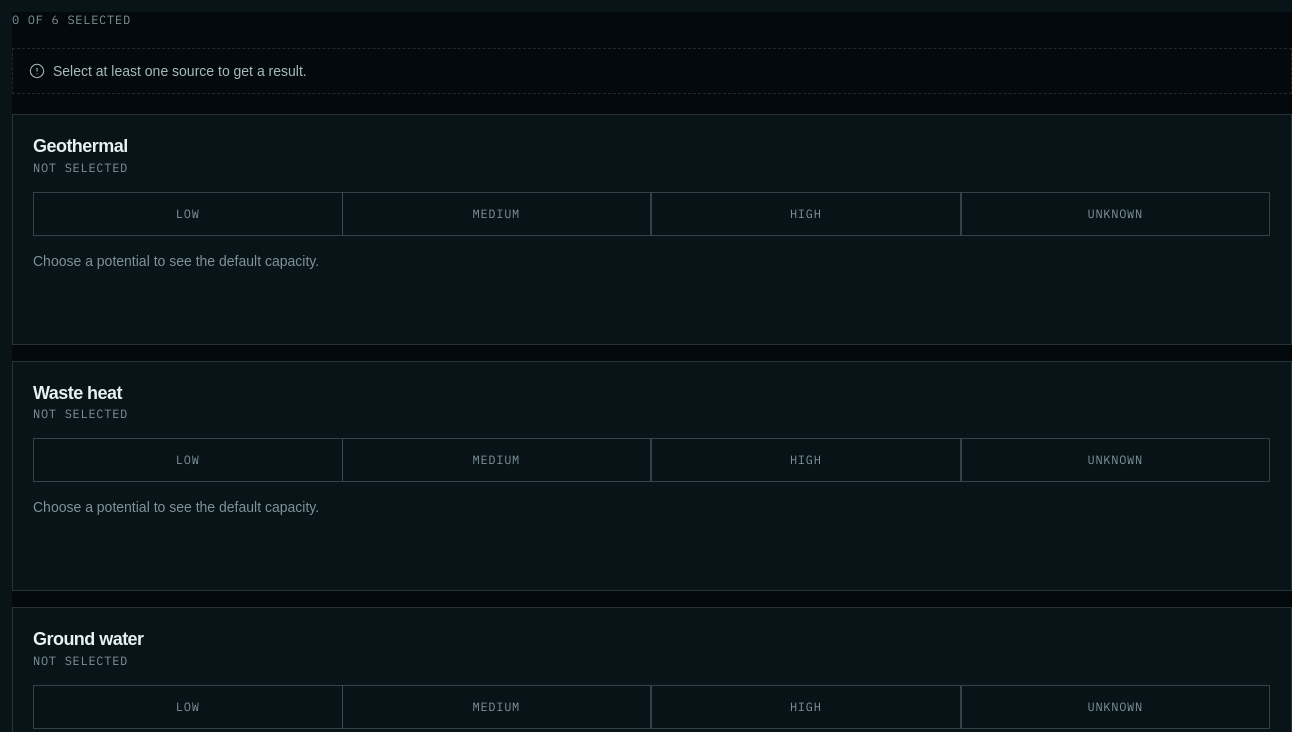
it: SourcesStep (QCT-IN-06/07) › selects a source by its potential and shows the default capacity
This screenshot has width=1292, height=732.
Check: the text "Select at least one source to get a result." is shown, box [12, 48, 1291, 94]
Check: the text "0 of 6 selected" is shown, box [12, 12, 131, 28]
Click the radio button labelled "Medium" below "Geothermal".
click(496, 214)  # box [342, 192, 651, 236]
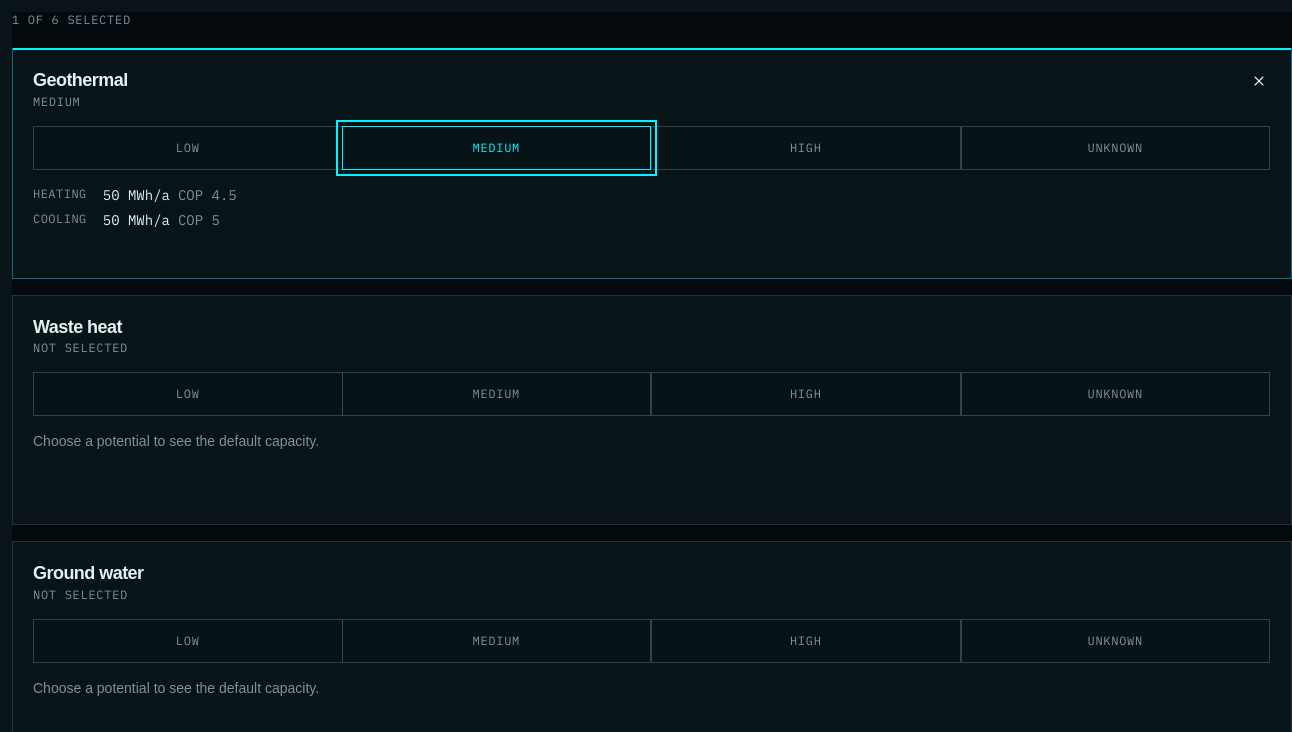
Check: the element that starts with "Geothermal" shows "50 MWh/a", box [103, 186, 170, 204]
Check: the element that starts with "Geothermal" shows "COP 4.5", box [178, 186, 237, 204]
Check: the text "1 of 6 selected" is shown, box [12, 12, 131, 28]
